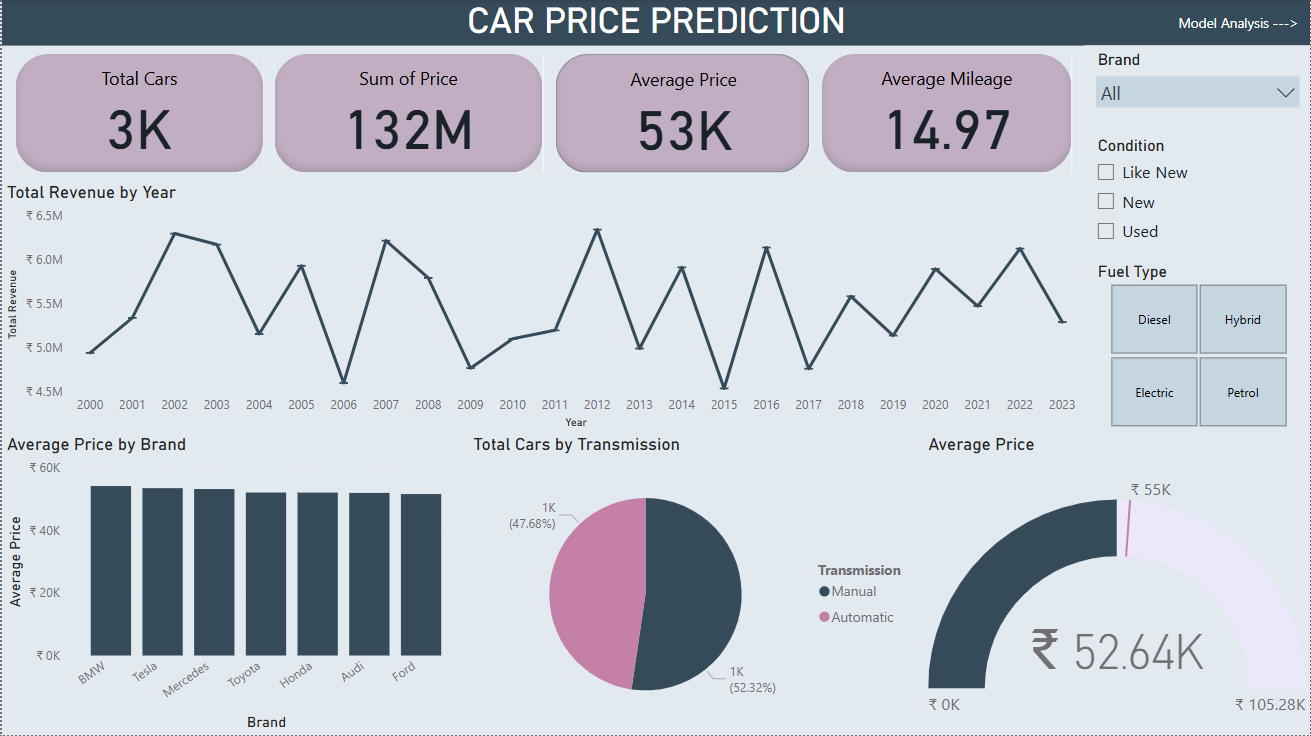

Layout of this report page (visuals, bound fields, positions):
{"tool":"powerbi","page":{"name":"Brand Analysis","canvas":[1280,720],"ordinal":0},"visuals":[{"type":"cardVisual","fields":{"Data":["car_price_prediction_.Total Cars"]},"box":[13.5,53.8,242.1,116.2],"z":0},{"type":"cardVisual","fields":{"Data":["Sum(car_price_prediction_.Price)"]},"box":[266.6,53.8,262.9,116.2],"z":1000},{"type":"cardVisual","fields":{"Data":["car_price_prediction_.Average Mileage"]},"box":[802.2,53.8,244.6,116.2],"z":2000},{"type":"textbox","title":"CAR PRICE PREDICTION","box":[0,0,1280.3,45.2],"z":3000},{"type":"clusteredColumnChart","fields":{"Category":["car_price_prediction_.Brand"],"Y":["car_price_prediction_.Average Price"]},"box":[0,425.5,456.1,294.7],"z":4000},{"type":"pieChart","fields":{"Category":["car_price_prediction_.Transmission"],"Y":["car_price_prediction_.Total Cars"]},"box":[456.1,425.5,445.1,294.7],"z":5000},{"type":"slicer","fields":{"Values":["car_price_prediction_.Brand"]},"box":[1059,45.2,221.3,84.4],"z":6000},{"type":"lineChart","fields":{"Category":["car_price_prediction_.Year"],"Y":["car_price_prediction_.Total Sales"]},"box":[0,178.5,1059,247],"z":7000},{"type":"gauge","fields":{"Y":["car_price_prediction_.Average Price"]},"box":[901.2,425.5,379.1,294.7],"z":8000},{"type":"slicer","fields":{"Values":["car_price_prediction_.Condition"]},"box":[1059,129.6,221.3,123.5],"z":9000},{"type":"slicer","fields":{"Values":["car_price_prediction_.Fuel Type"]},"box":[1059,253.1,221.3,172],"z":10000},{"type":"cardVisual","fields":{"Data":["car_price_prediction_.Average Price"]},"box":[541.7,53.8,248.2,116.2],"z":11000},{"type":"actionButton","title":"Model Analysis --->","box":[1138.5,0,141.8,45.2],"z":12000}]}

Visuals, with their boxes in screenshot pixels (x1, y1, x2, y2), scaled from the page's 1280x720 canvas onto the 1311x736 screenshot:
cardVisual - car_price_prediction_.Total Cars: [14,55,262,174]
cardVisual - Sum(car_price_prediction_.Price): [273,55,542,174]
cardVisual - car_price_prediction_.Average Mileage: [822,55,1072,174]
"CAR PRICE PREDICTION" textbox: [0,0,1310,46]
clusteredColumnChart - car_price_prediction_.Brand x car_price_prediction_.Average Price: [0,435,467,735]
pieChart - car_price_prediction_.Transmission x car_price_prediction_.Total Cars: [467,435,923,735]
slicer - car_price_prediction_.Brand: [1085,46,1310,132]
lineChart - car_price_prediction_.Year x car_price_prediction_.Total Sales: [0,182,1085,435]
gauge - car_price_prediction_.Average Price: [923,435,1310,735]
slicer - car_price_prediction_.Condition: [1085,132,1310,259]
slicer - car_price_prediction_.Fuel Type: [1085,259,1310,435]
cardVisual - car_price_prediction_.Average Price: [555,55,809,174]
"Model Analysis --->" actionButton: [1166,0,1310,46]
